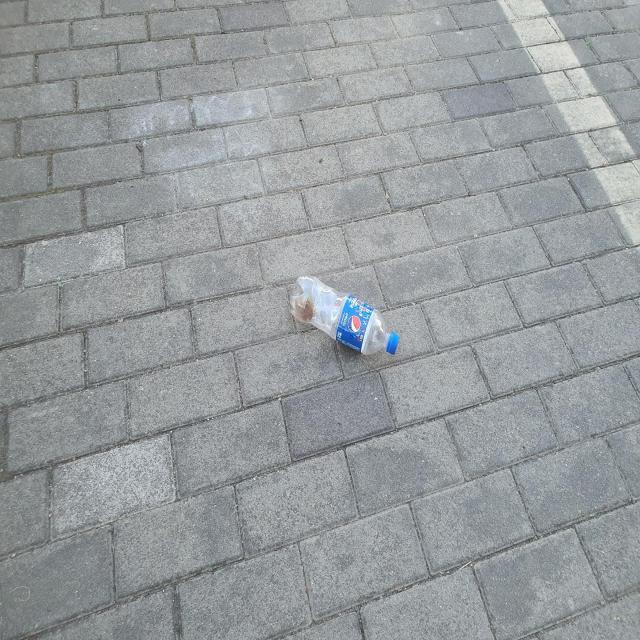plastic: (290, 276, 399, 354)
